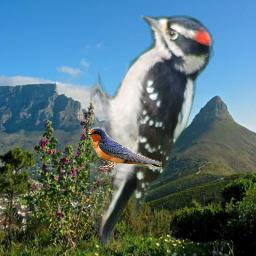Swallow: (86, 126, 162, 172)
Woodpecker: (90, 8, 216, 250)
